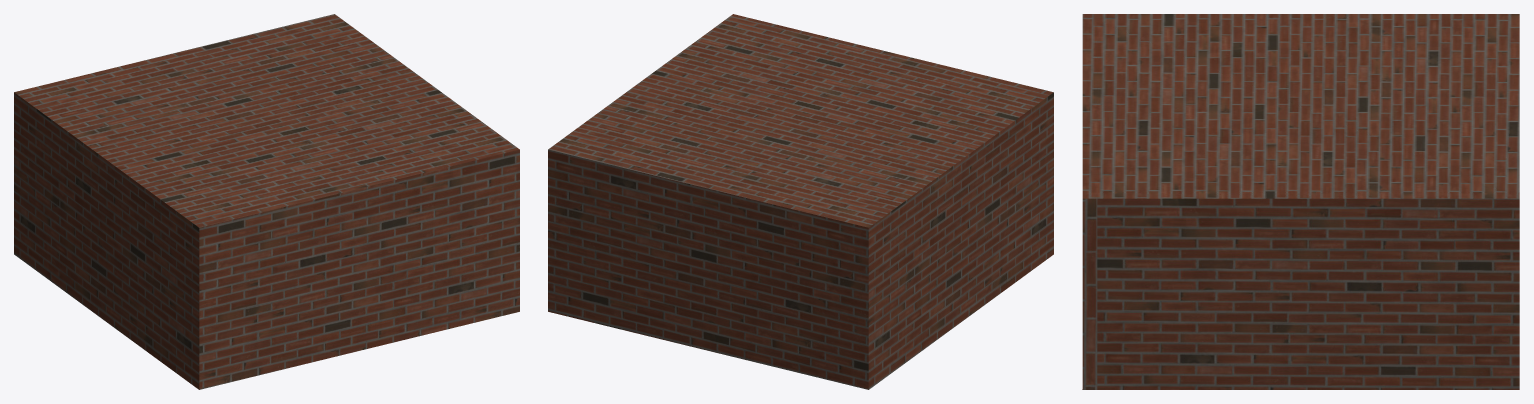
File: PISORECA.obj
The picture shows the model from 3 angles, left to right: view 1: azimuth 30°, elevation 25°; view 2: azimuth 150°, elevation 25°; view 3: azimuth 270°, elevation 25°; orthographic projection. The views are drawn at different scales.
Visible parts, largest first — view 1: casa3:Sala2_001_Cube_007_Sala2_001_Cube_007_Material_001; view 2: casa3:Sala2_001_Cube_007_Sala2_001_Cube_007_Material_001; view 3: casa3:Sala2_001_Cube_007_Sala2_001_Cube_007_Material_001.
Boxes of the visible parts, left/top/right/bottom form: casa3:Sala2_001_Cube_007_Sala2_001_Cube_007_Material_001: left=14, top=14, right=519, bottom=389; casa3:Sala2_001_Cube_007_Sala2_001_Cube_007_Material_001: left=548, top=14, right=1053, bottom=389; casa3:Sala2_001_Cube_007_Sala2_001_Cube_007_Material_001: left=1082, top=14, right=1519, bottom=389.
Size of the model in its own units: 30 by 14.5 by 30.01.
